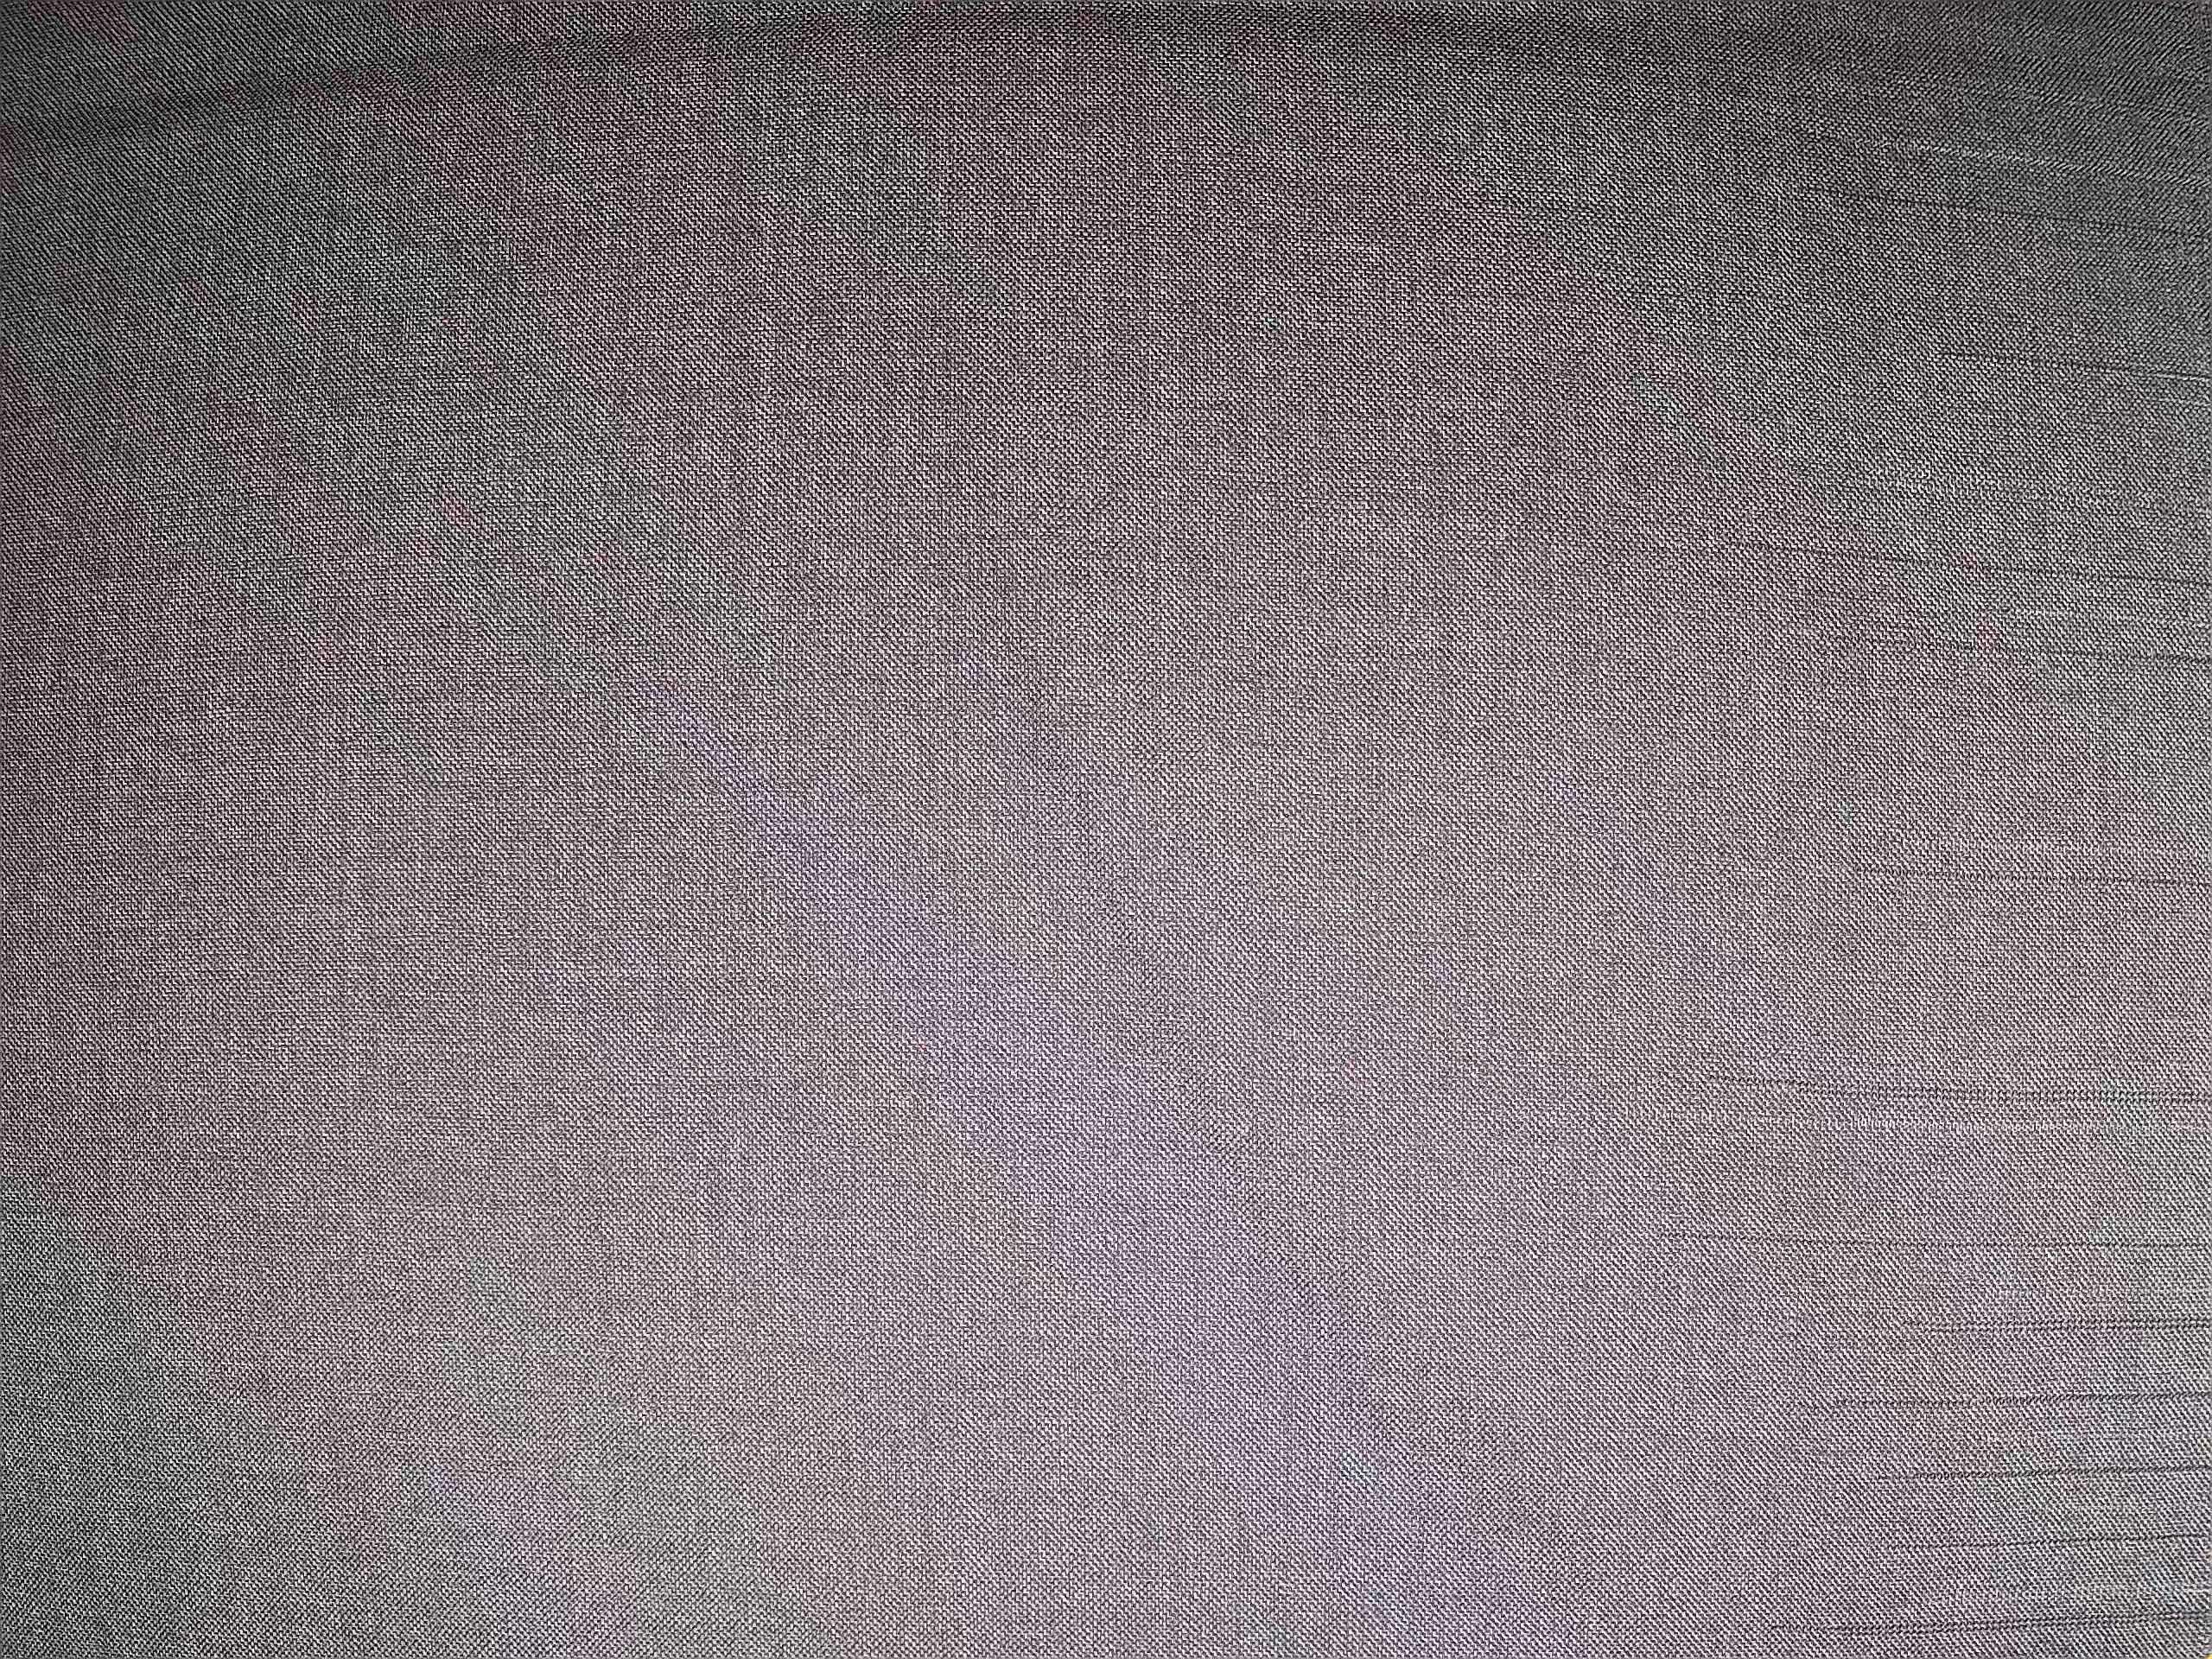others: (1672, 23, 2207, 1633)
